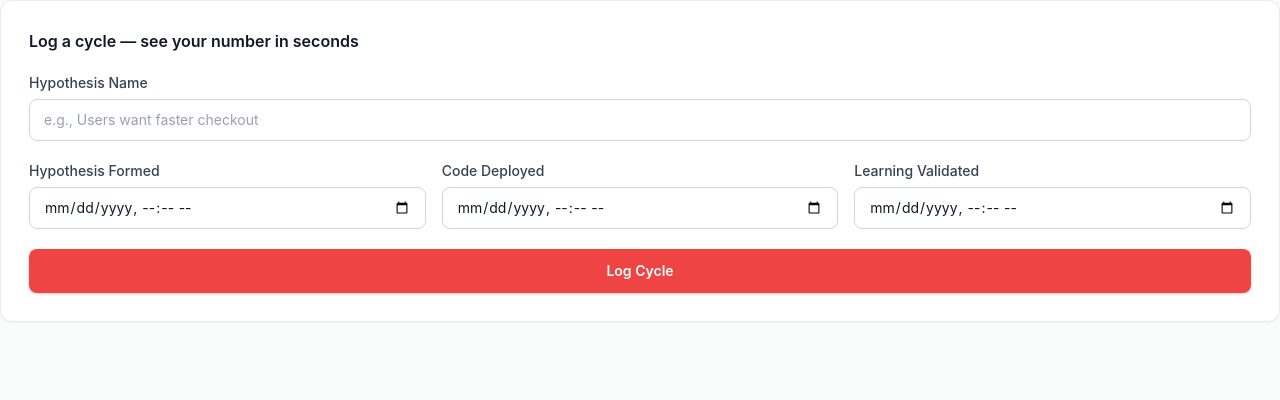
Test: CycleLogger › validates timestamps are sequential
The width and height of the screenshot is (1280, 400).
Type "Test" into the field labelled "Hypothesis Name".
click(640, 120); type("Test")  # box [29,99,1251,141]
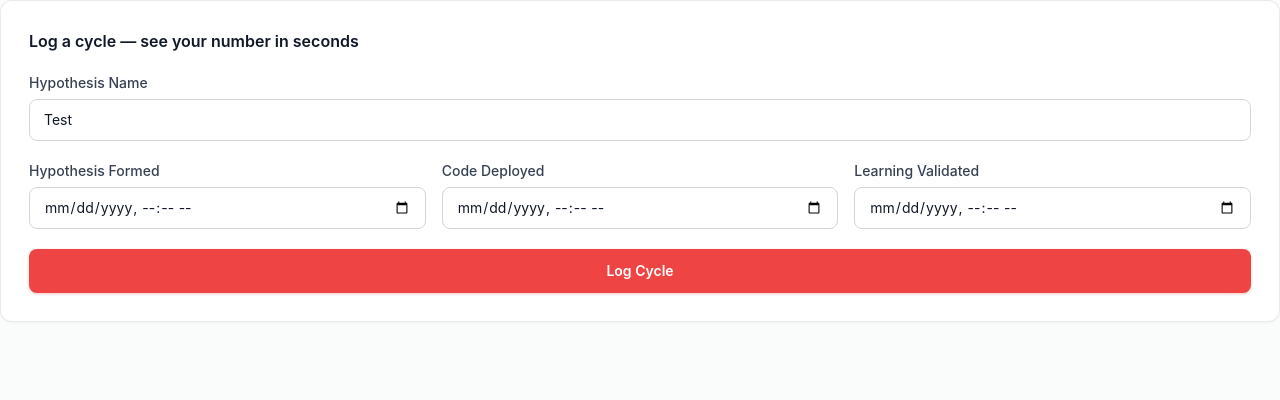
# Out of order: hypothesis is later than deploy
Type "2024-06-01T18:00" into the field labelled "Hypothesis Formed".
click(227, 208); type("2024-06-01T18:00")  # box [29,187,426,229]
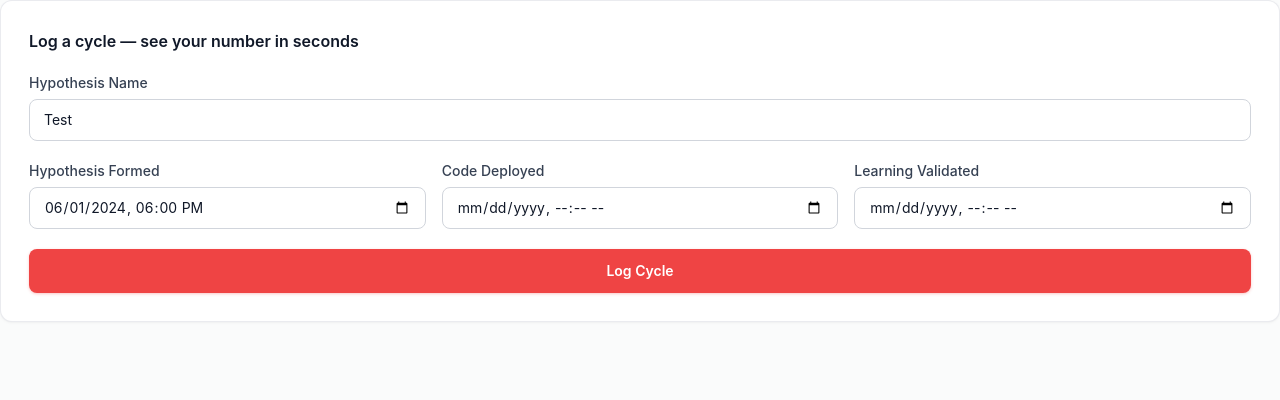
Type "2024-06-01T10:00" into the field labelled "Code Deployed".
click(640, 208); type("2024-06-01T10:00")  # box [442,187,838,229]
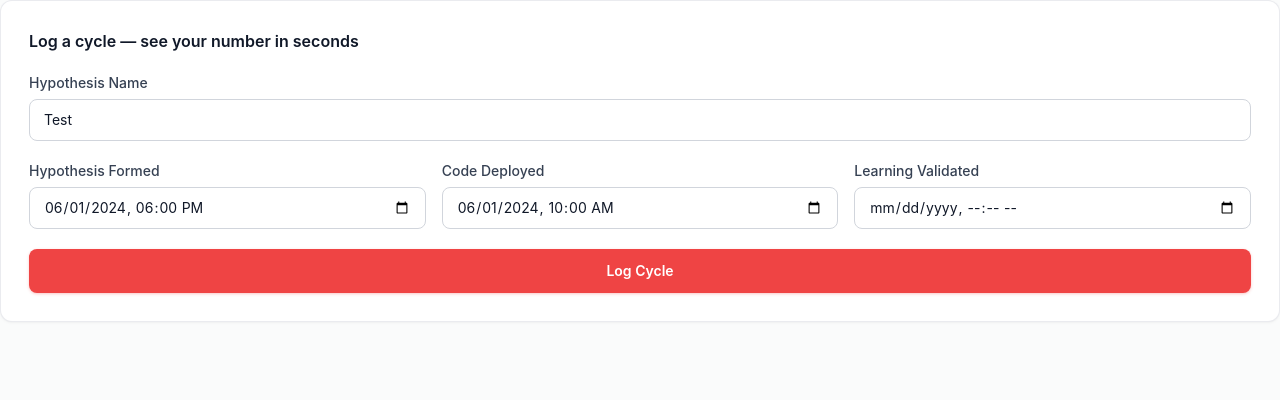
Type "2024-06-01T12:00" into the field labelled "Learning Validated".
click(1053, 208); type("2024-06-01T12:00")  # box [854,187,1251,229]
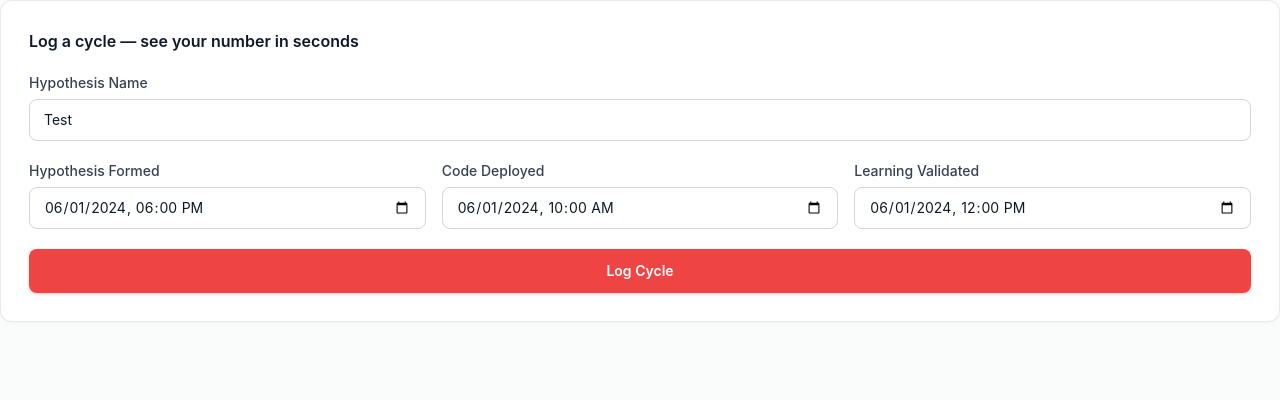
Click the button "Log Cycle".
click(640, 271)  # box [29,249,1251,293]
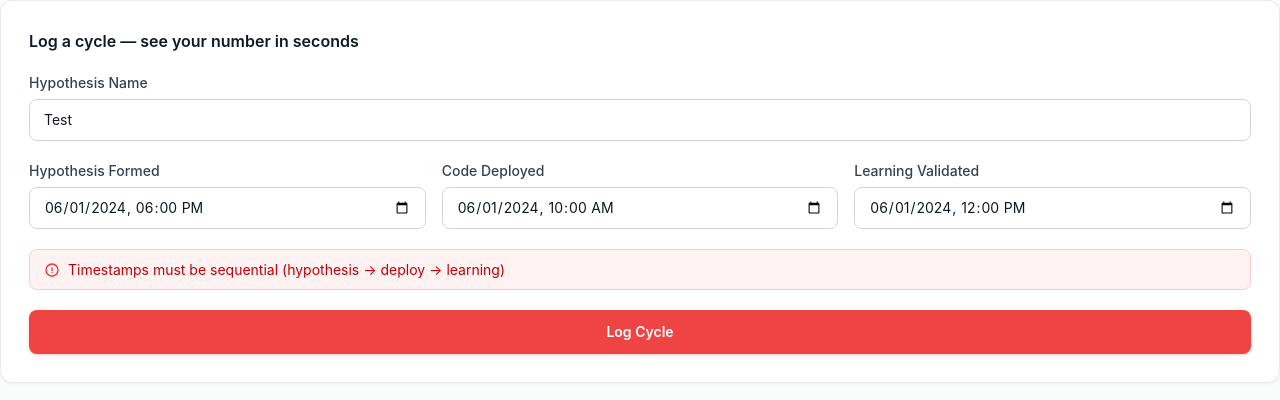
Expected: the text "sequential" is shown, [68,261,505,278]
